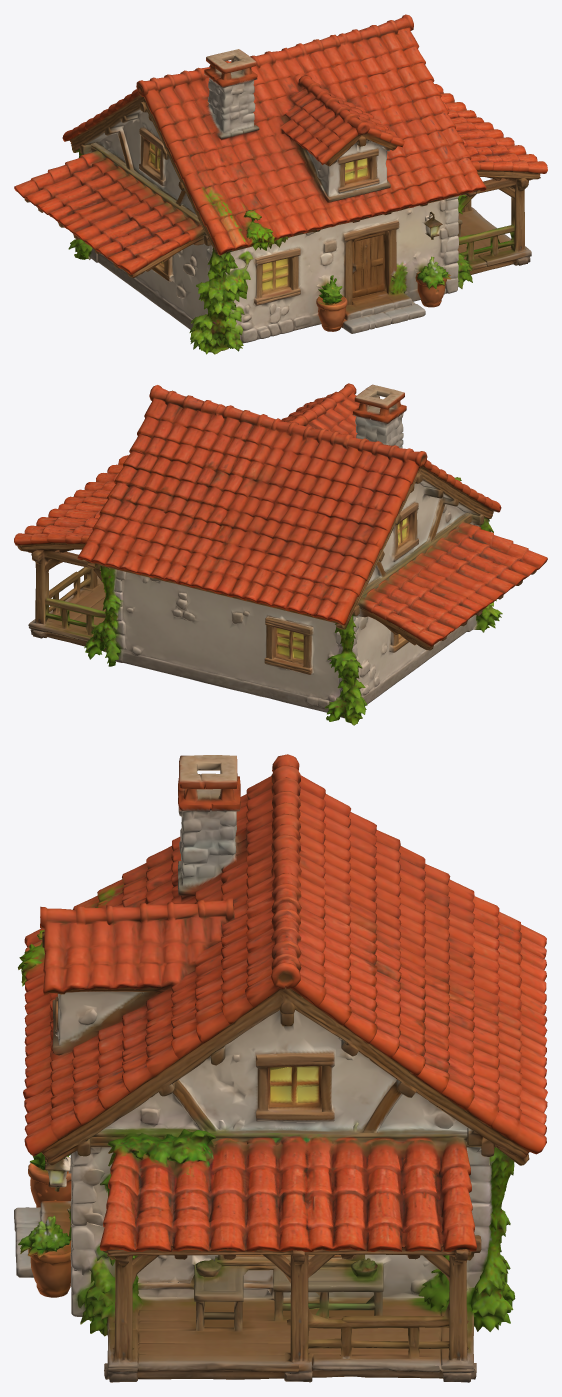
Rendered from cottage-tripo.glb.
3 renders of one model, top to bottom at view 1: azimuth 30°, elevation 25°; view 2: azimuth 150°, elevation 25°; view 3: azimuth 270°, elevation 25°, orthographic. The views are drawn at different scales.
Visible parts, largest first — view 1: tripo_node_6865b2f0-a476-43c2-83fe-327802c5348e; view 2: tripo_node_6865b2f0-a476-43c2-83fe-327802c5348e; view 3: tripo_node_6865b2f0-a476-43c2-83fe-327802c5348e.
Part boxes in pixels (x1,y1,x2,y2): tripo_node_6865b2f0-a476-43c2-83fe-327802c5348e: (14, 14, 547, 354); tripo_node_6865b2f0-a476-43c2-83fe-327802c5348e: (14, 383, 547, 725); tripo_node_6865b2f0-a476-43c2-83fe-327802c5348e: (14, 754, 547, 1382).
Bounding box in the file's own units: 0.979 × 0.5486 × 0.6547.
Materials: 1 (1 with a texture image).
